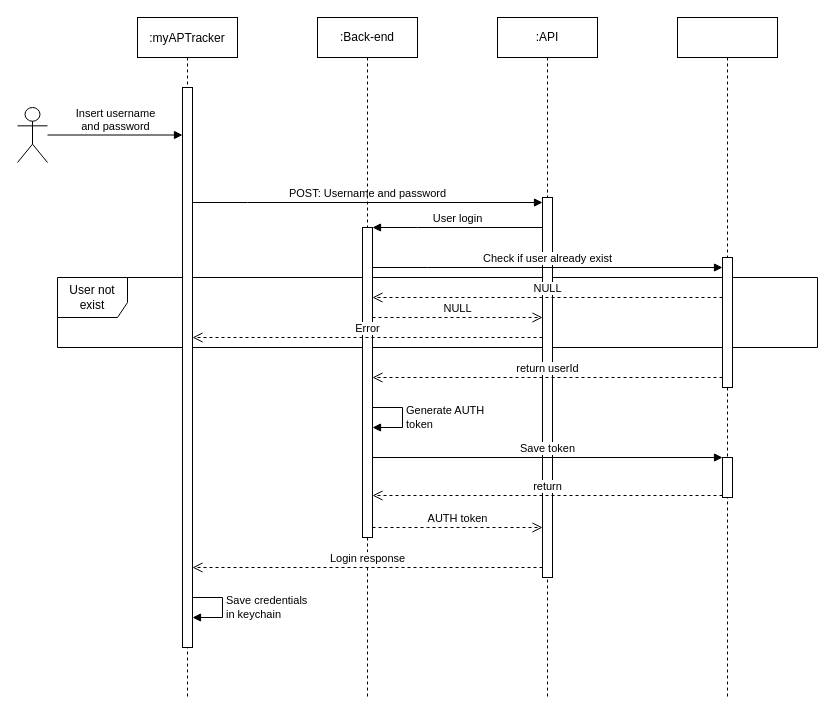
Image size: 835x715. Some labels were removed from this diagram. The shapes that lost their labels are listed below. From the top down, each one's centre as x and y in pixels, then its label:
At [32,134]: "User".
At [727,357]: ":DBMS".
